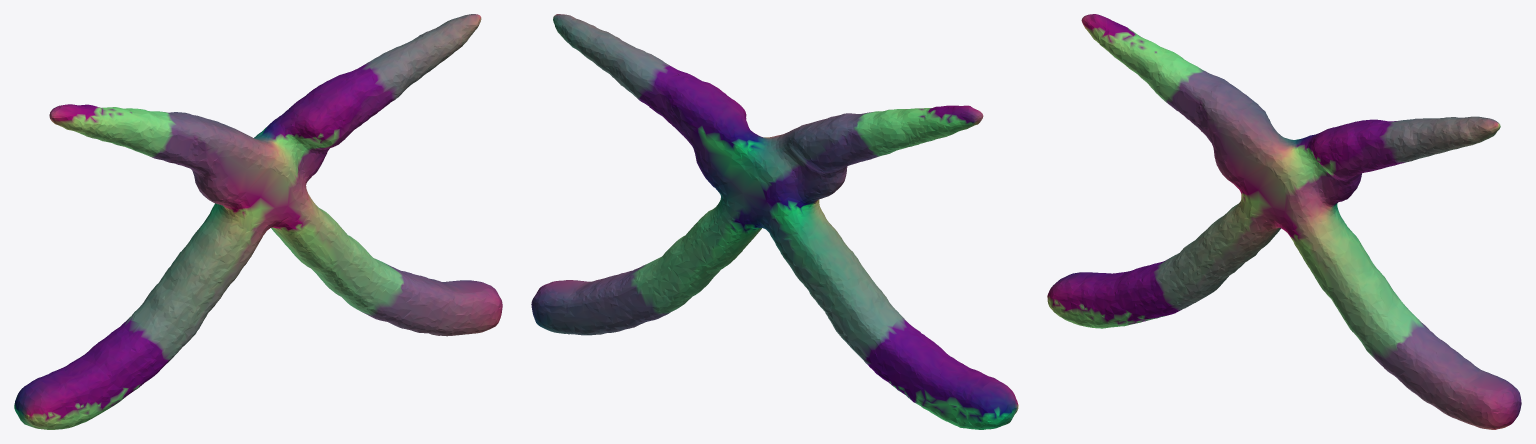
The model's file is pliers-17.off.obj.
The picture shows the model from 3 angles, left to right: view 1: azimuth 30°, elevation 25°; view 2: azimuth 150°, elevation 25°; view 3: azimuth 330°, elevation 25°; orthographic projection. The views are drawn at different scales.
Size of the model in its own units: 1.6 by 1.03 by 0.1677.
